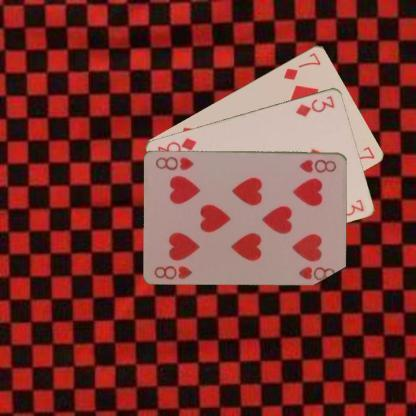3d: (293, 93, 336, 118)
7d: (280, 50, 323, 81)
8h: (152, 263, 194, 281), (297, 156, 337, 174)
